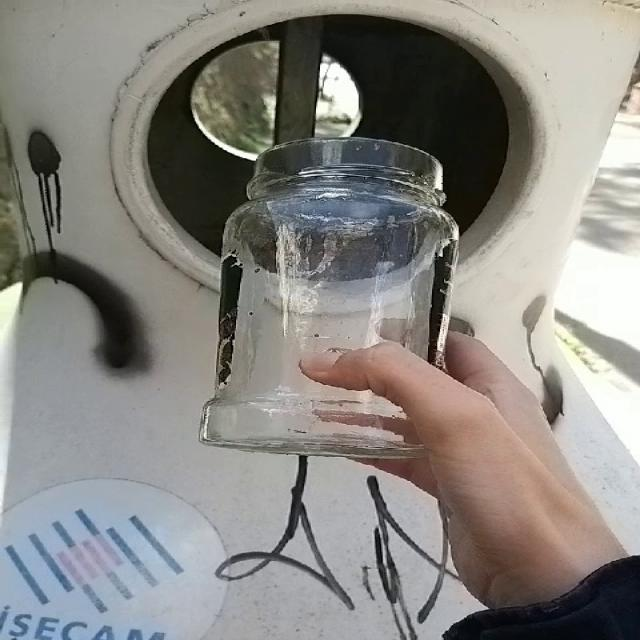glass: (200, 138, 459, 459)
